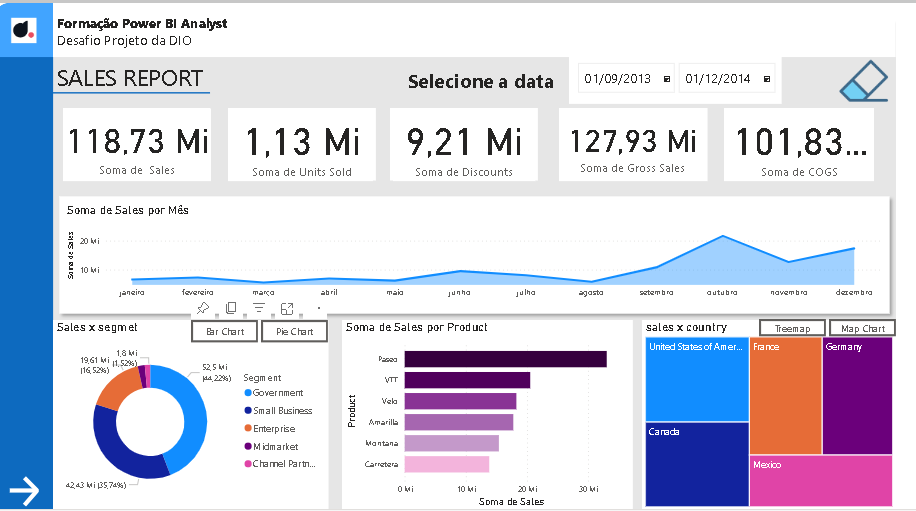

Layout of this report page (visuals, bound fields, positions):
{"tool":"powerbi","page":{"name":"Página 1","canvas":[1280,720],"ordinal":0},"visuals":[{"type":"shape","box":[0,0,1280,719.3],"z":0},{"type":"slicer","fields":{"Values":["financials.Date"]},"box":[815.4,76.3,302,68.3],"z":0,"group":"g2"},{"type":"shape","box":[96.3,149.1,209.6,103.8],"z":0,"group":"g1"},{"type":"map","title":"sales x country","fields":{"Category":["financials.Country"],"Size":["Sum(financials. Sales)"]},"box":[918.7,449.8,360.8,270.2],"z":0,"group":"g3"},{"type":"shape","box":[0,0,83.1,719.3],"z":1000},{"type":"textbox","box":[581.5,86.8,230.3,49.1],"z":1000,"group":"g2"},{"type":"shape","box":[330.4,149.1,205.8,103.8],"z":1000,"group":"g1"},{"type":"donutChart","title":"Sales x segmet ","fields":{"Y":["Sum(financials. Sales)"],"Category":["financials.Segment"]},"box":[82.6,449.8,391,270.2],"z":1000,"group":"g4"},{"type":"treemap","title":"sales x country ","fields":{"Group":["financials.Country"],"Values":["Sum(financials. Sales)"]},"box":[919.2,449.8,360.8,270.2],"z":1000,"group":"g3"},{"type":"actionButton","title":"Botão map chart","box":[1184.9,448.1,95.3,24.5],"z":1500,"group":"g3"},{"type":"actionButton","title":"Botão pie sales","box":[378.2,449.8,95.4,31.8],"z":1500,"group":"g4"},{"type":"shape","box":[0,0,83.1,77.4],"z":2000},{"type":"image","box":[1187.3,71.5,92.2,79.5],"z":2000,"group":"g2"},{"type":"shape","box":[564.5,149.1,202,103.8],"z":2000,"group":"g1"},{"type":"actionButton","title":"Botão treemap","box":[1084.9,448.1,95.3,24.5],"z":2000,"group":"g3"},{"type":"actionButton","title":"Botão bar sales","box":[278.1,449.8,95.4,31.8],"z":2000,"group":"g4"},{"type":"shape","box":[83.1,0,1196.9,77.4],"z":3000},{"type":"actionButton","box":[1179.4,77.9,100.1,66.8],"z":3000,"group":"g2"},{"type":"shape","box":[800.5,149.1,211.4,103.8],"z":3000,"group":"g1"},{"type":"textbox","box":[83.1,9.4,993,60.4],"z":4000},{"type":"shape","box":[1034.6,149.1,213.3,103.8],"z":4000,"group":"g1"},{"type":"group","id":"g1","title":"Cartões","box":[96.3,149.1,1151.6,103.8],"z":5000},{"type":"shape","box":[82.7,51.9,223.2,150.1],"z":6000},{"type":"textbox","box":[82.6,76.3,354.4,68.3],"z":7000},{"type":"shape","box":[82.6,265.4,1196.8,184.4],"z":8000},{"type":"shape","box":[82.6,449.8,391,270.2],"z":9000},{"type":"shape","box":[492.5,450.2,407.9,269.3],"z":10000},{"type":"shape","box":[918.7,449.8,360.8,270.2],"z":11000},{"type":"areaChart","fields":{"Category":["financials.Date.Variation.Hierarquia de datas.Mês"],"Y":["Sum(financials. Sales)"]},"box":[96.2,284.7,1165.9,144.3],"z":12000},{"type":"card","fields":{"Values":["Sum(financials. Sales)"]},"box":[96,150,210,102],"z":13000},{"type":"card","fields":{"Values":["Sum(financials.Units Sold)"]},"box":[330.6,149.4,209.8,103.3],"z":14000},{"type":"card","fields":{"Values":["Sum(financials.Discounts)"]},"box":[561.1,149.4,209.8,103.3],"z":15000},{"type":"card","fields":{"Values":["Sum(financials.Gross Sales)"]},"box":[801.1,149.4,209.8,103.3],"z":16000},{"type":"card","fields":{"Values":["Sum(financials.COGS)"]},"box":[1037.9,149.4,209.8,103.3],"z":17000},{"type":"clusteredBarChart","fields":{"Category":["financials.Product"],"Y":["Sum(financials. Sales)"]},"box":[492.7,449.8,413.2,270.2],"z":18000},{"type":"group","id":"g2","title":"Filtro por data","box":[581.5,71.5,698,79.5],"z":19000},{"type":"group","id":"g3","title":"sales por paises","box":[918.7,448.1,361.5,271.9],"z":20000},{"type":"group","id":"g4","title":"salesx segment","box":[82.6,449.8,391,270.2],"z":21000},{"type":"actionButton","box":[14.3,667.5,82.6,52.5],"z":22000},{"type":"image","box":[0,0,82,78],"z":23000}]}

Visuals, with their boxes on the page's 1280x720 design canvas (x1, y1, x2, y2). These are canvas units, not pixel positions in the 916x511 screenshot, which may show the page scaled, cropped or inside an application window:
shape: 0:0:1280:719
slicer - financials.Date: 815:76:1117:145
shape: 96:149:306:253
"sales x country" map: 919:450:1280:720
shape: 0:0:83:719
textbox: 582:87:812:136
shape: 330:149:536:253
"Sales x segmet " donutChart: 83:450:474:720
"sales x country " treemap: 919:450:1280:720
"Botão map chart" actionButton: 1185:448:1280:473
"Botão pie sales" actionButton: 378:450:474:482
shape: 0:0:83:77
image: 1187:72:1280:151
shape: 564:149:766:253
"Botão treemap" actionButton: 1085:448:1180:473
"Botão bar sales" actionButton: 278:450:374:482
shape: 83:0:1280:77
actionButton: 1179:78:1280:145
shape: 800:149:1012:253
textbox: 83:9:1076:70
shape: 1035:149:1248:253
"Cartões" group: 96:149:1248:253
shape: 83:52:306:202
textbox: 83:76:437:145
shape: 83:265:1279:450
shape: 83:450:474:720
shape: 492:450:900:720
shape: 919:450:1280:720
areaChart - financials.Date.Variation.Hierarquia de datas.Mês x Sum(financials. Sales): 96:285:1262:429
card - Sum(financials. Sales): 96:150:306:252
card - Sum(financials.Units Sold): 331:149:540:253
card - Sum(financials.Discounts): 561:149:771:253
card - Sum(financials.Gross Sales): 801:149:1011:253
card - Sum(financials.COGS): 1038:149:1248:253
clusteredBarChart - financials.Product x Sum(financials. Sales): 493:450:906:720
"Filtro por data" group: 582:72:1280:151
"sales por paises" group: 919:448:1280:720
"salesx segment" group: 83:450:474:720
actionButton: 14:668:97:720
image: 0:0:82:78
